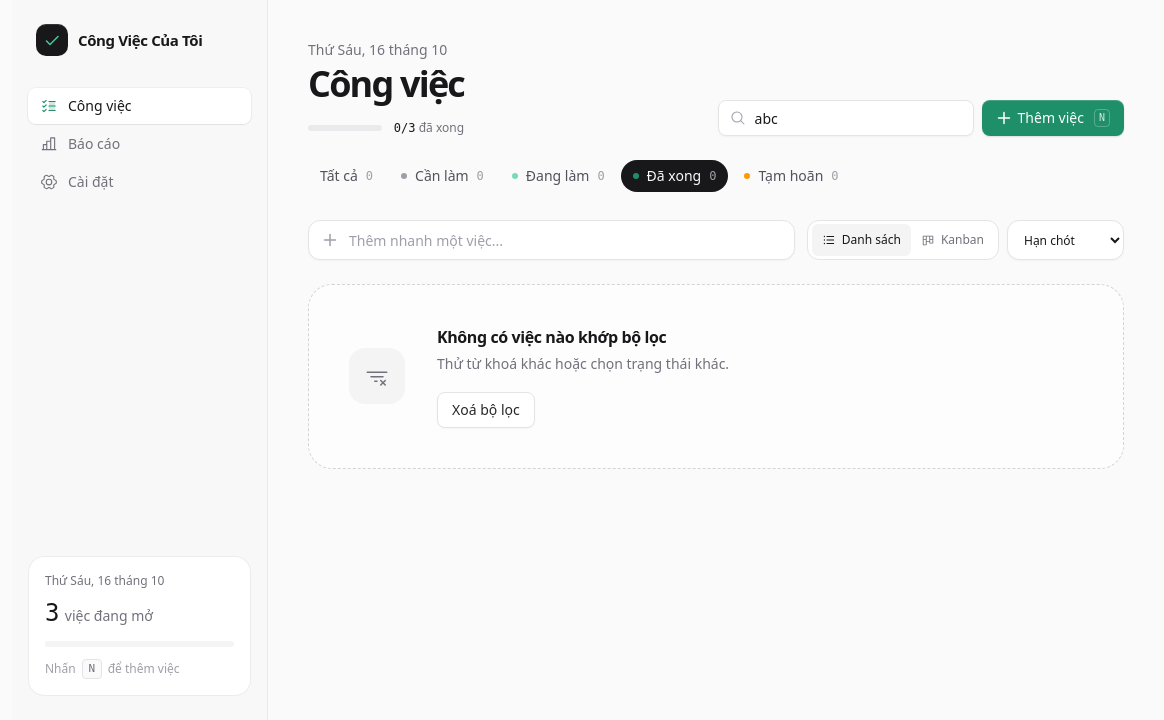
trang Công việc › lọc không ra kết quả thì có nút Xoá bộ lọc
Step 1. Click the button "Xoá bộ lọc" → (486, 410), box [437, 392, 535, 428]
(page scrolled)
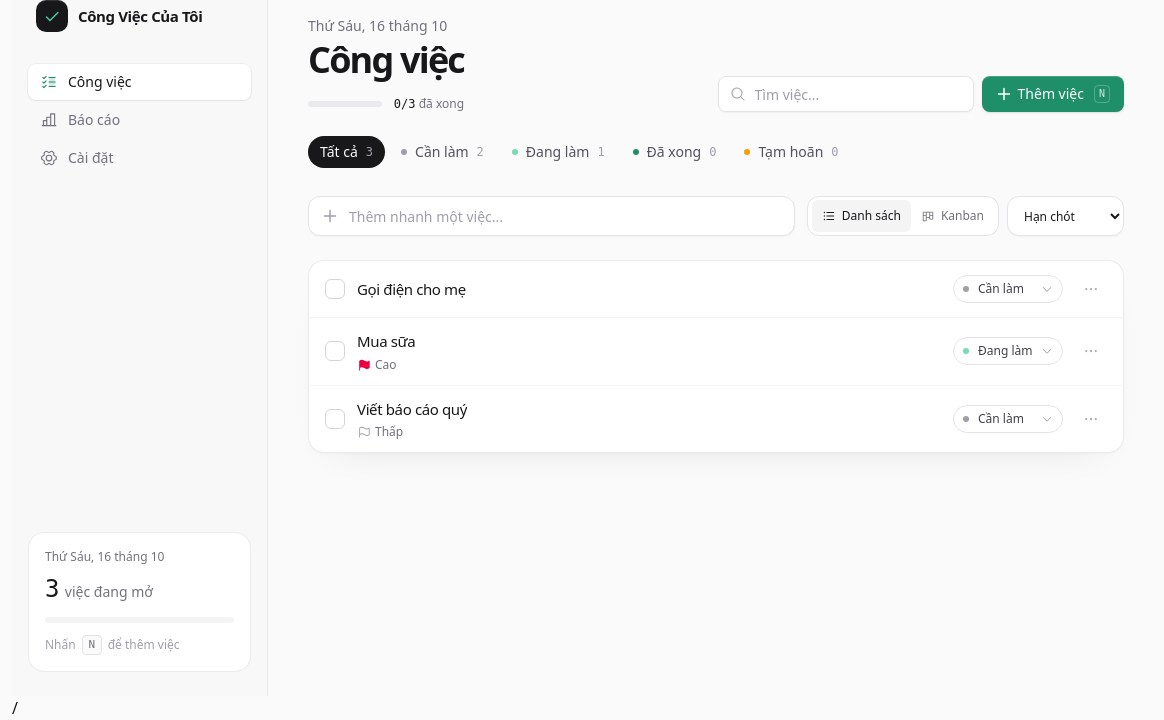
Expected: the search field named "Tìm công việc" is empty, [718, 76, 974, 112]
Expected: the text with test id "location" reads "/", [12, 697, 18, 719]
